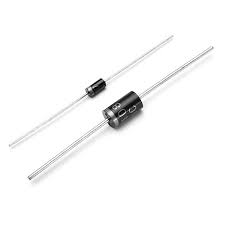diode: (101, 91, 158, 151), (66, 55, 118, 101)
